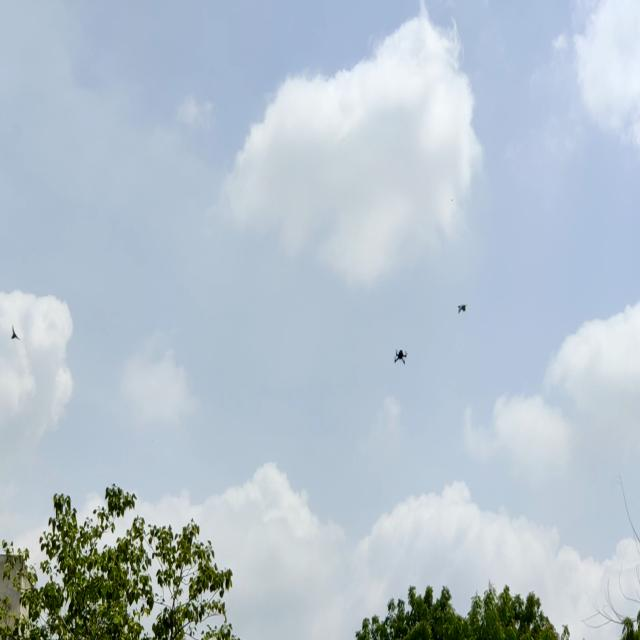drone: (392, 347, 410, 368)
